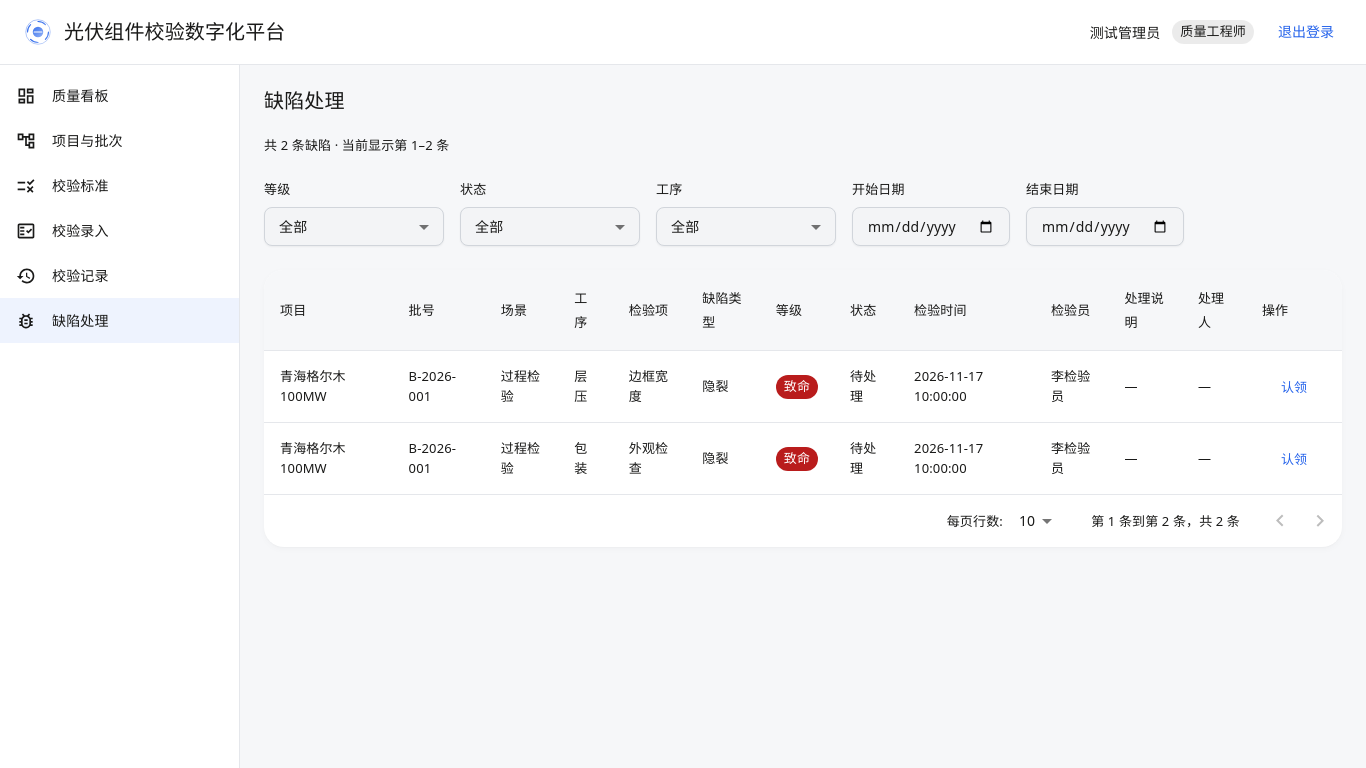
Test: 选中工序后下拉仍能切换到其他工序
This screenshot has width=1366, height=768.
Later steps or results of the test are not shown.
Expected: the text "边框宽度" is shown, [613,351,686,423]
Click the dropdown named "工序" at (685, 226), box [671,217,699,236]
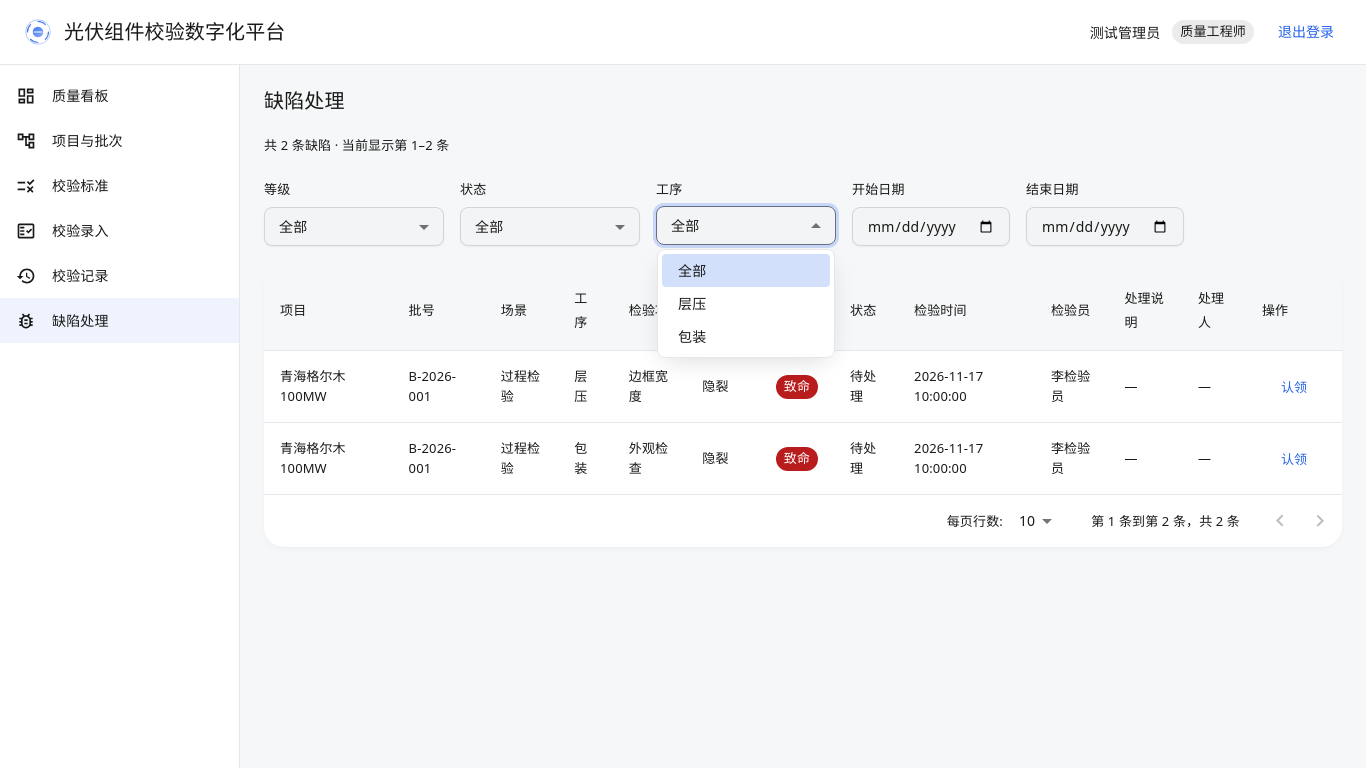
Click the option "层压" at (692, 304), box [678,294,706,313]
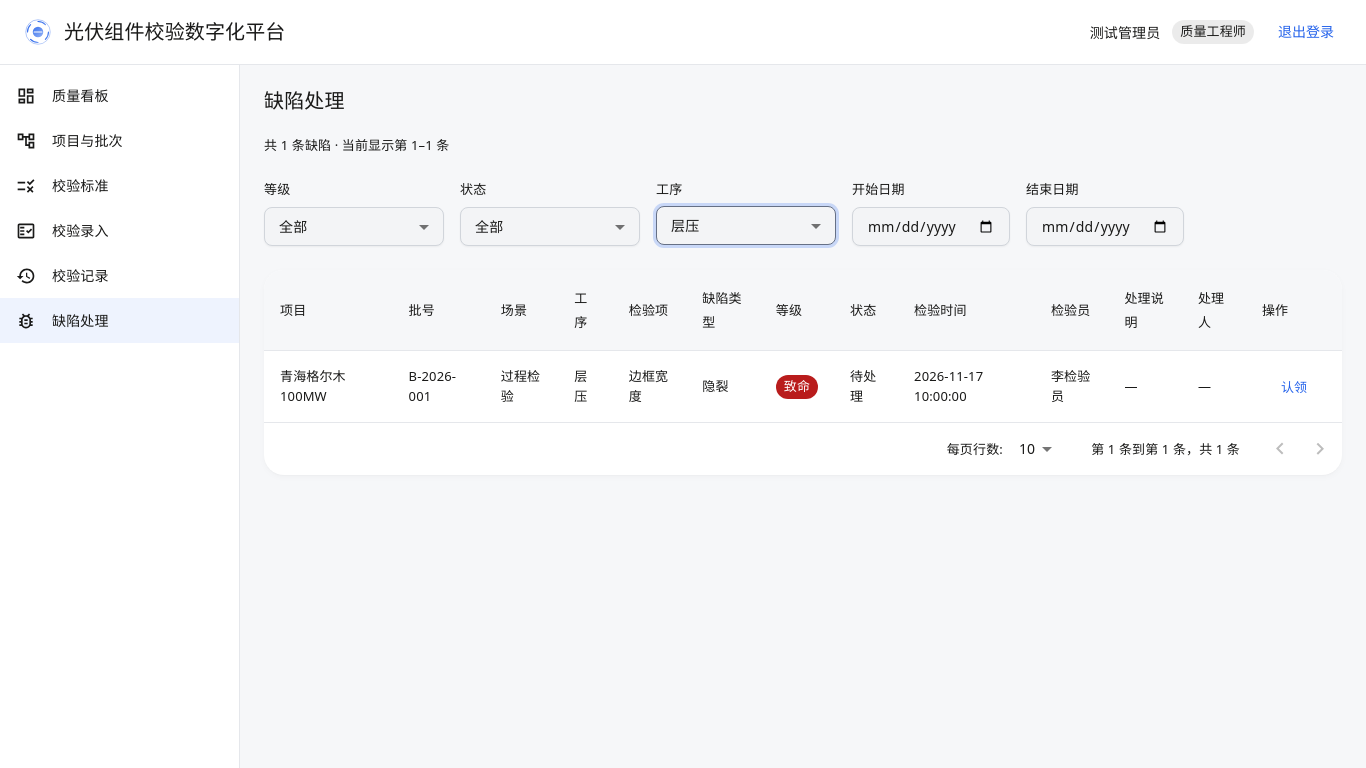
Click the dropdown named "工序" at (685, 225), box [671,216,699,235]
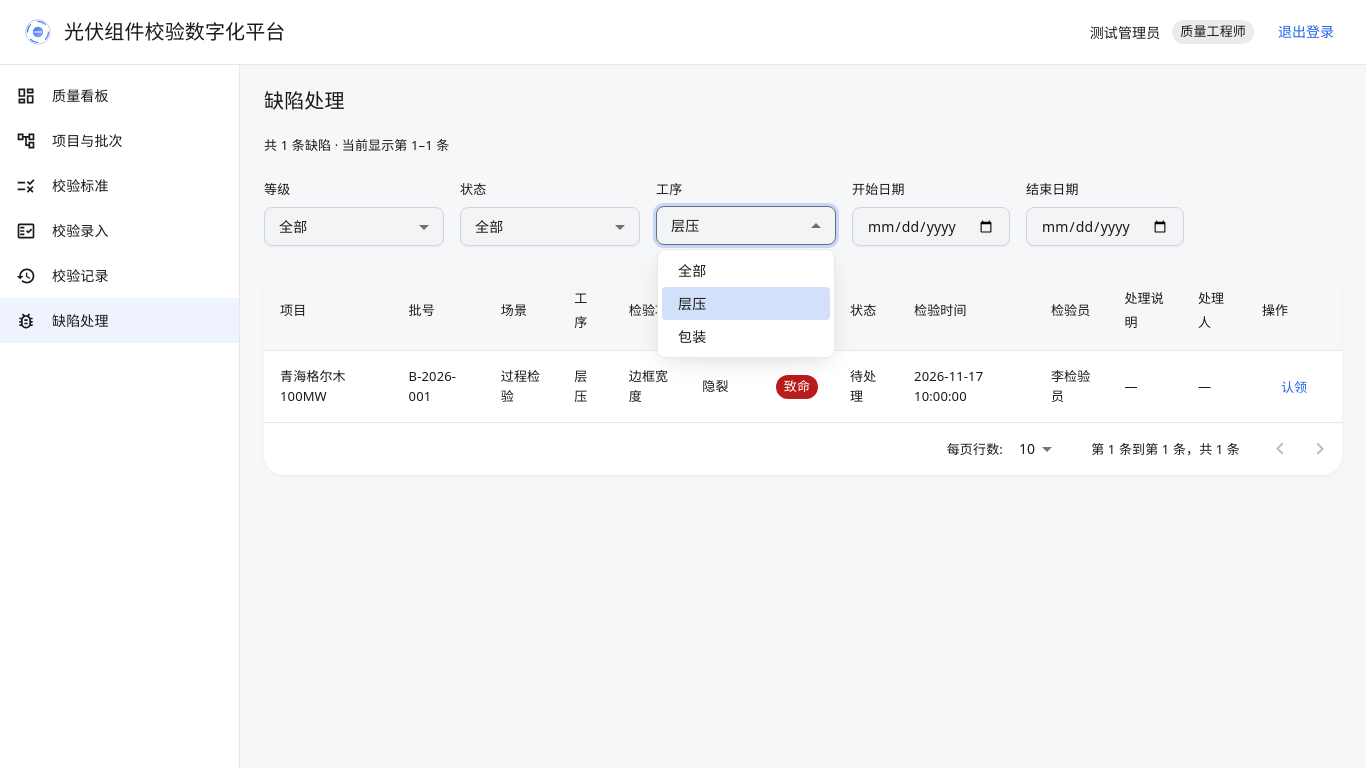
Expected: the option "层压" is shown, [662,287,830,320]
Expected: the option "包装" is shown, [678,327,706,346]
